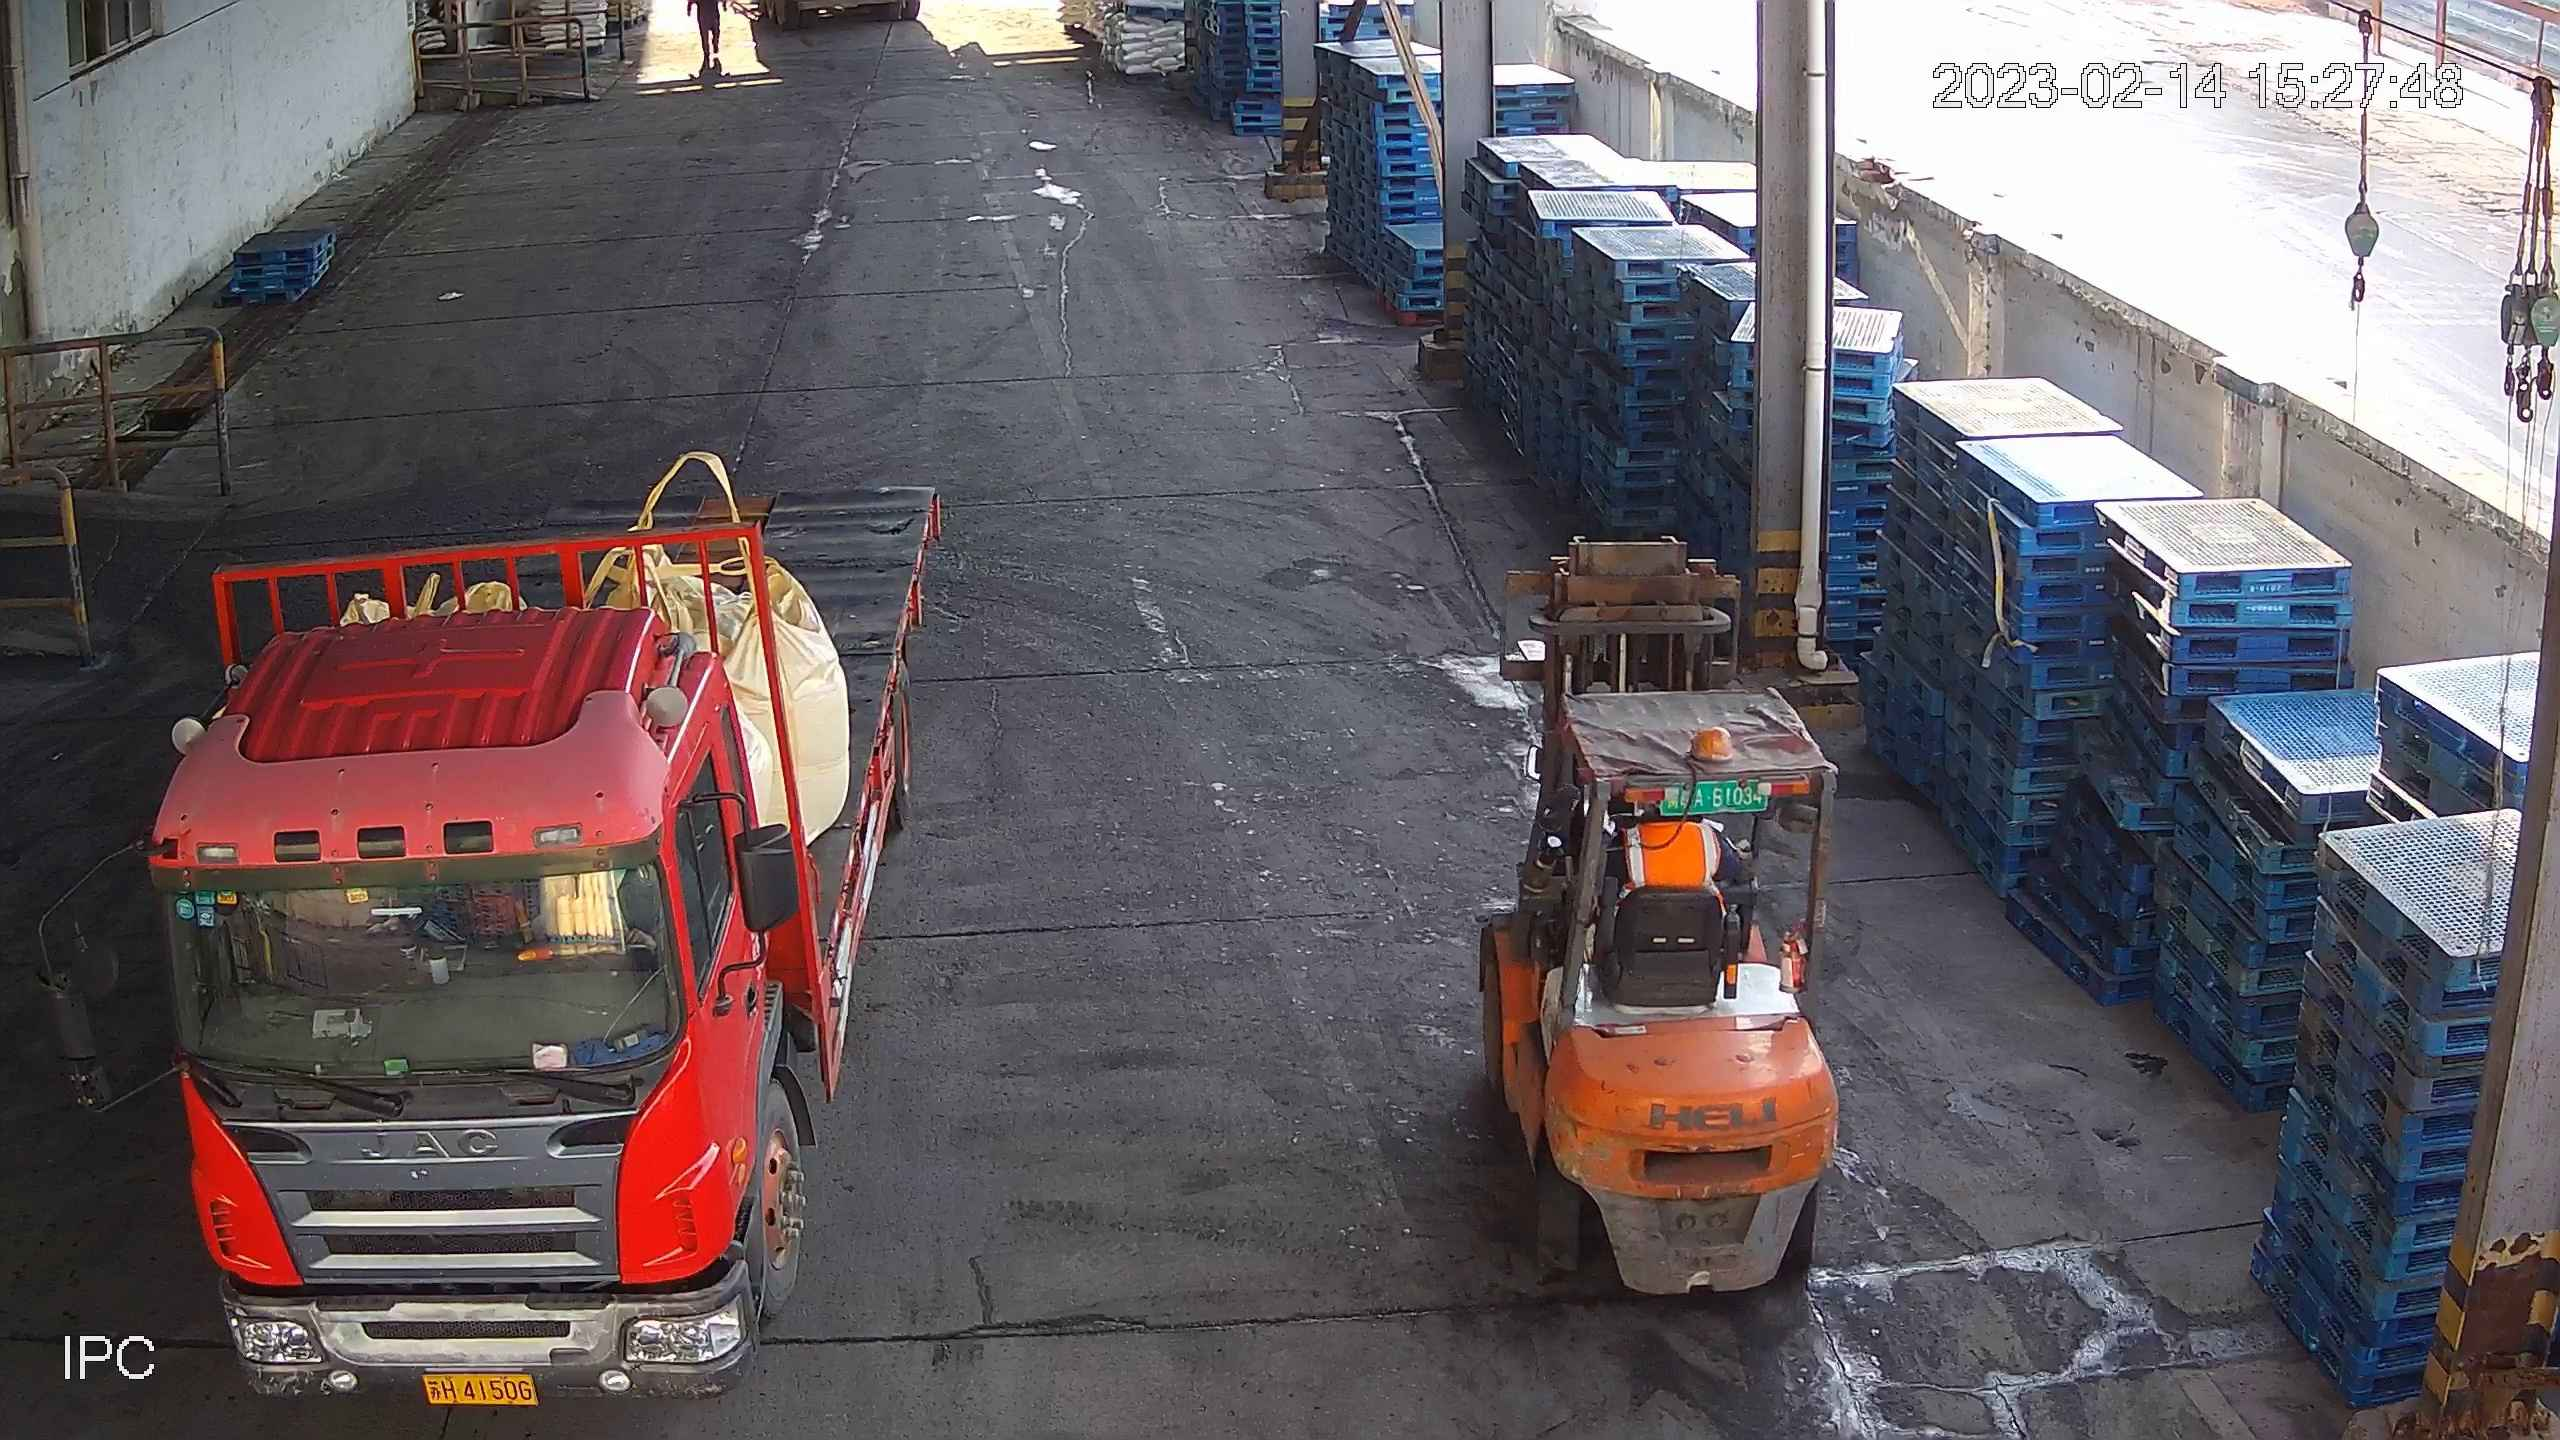truck: (19, 478, 944, 1414)
